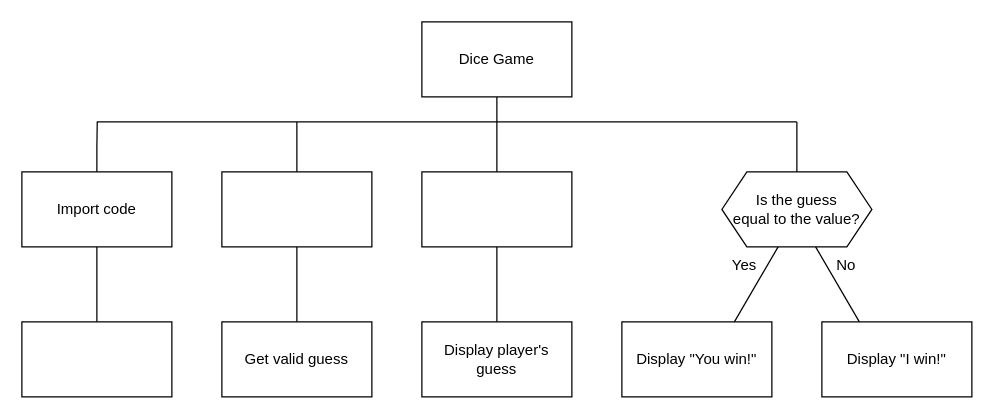
The diagram is 994 pixels wide and 419 high, and some of its shapes have lost their labels. The shapes that lost their labels are listed below. From the top down, each one's box as (x1, y1, x2, y2) in pixels, then its label:
(221, 171, 372, 247): Pick random value
(421, 171, 572, 247): Display computer's value
(21, 321, 172, 397): Initialise variables
